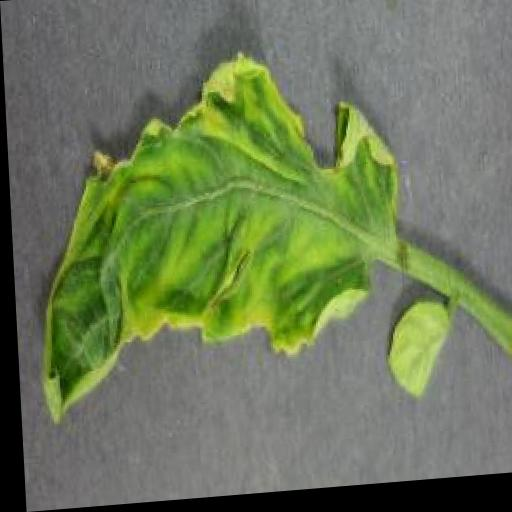Yellow Leaf Curl Virus: (24, 45, 408, 423)
